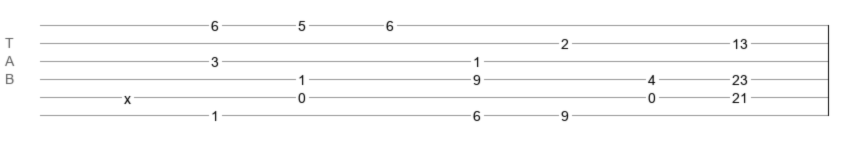0: (298, 90, 306, 100), (648, 90, 656, 100)
1: (211, 108, 219, 118), (298, 72, 306, 82), (473, 54, 481, 64)
13: (732, 36, 748, 46)
2: (561, 36, 569, 46)
21: (732, 90, 748, 100)
23: (732, 72, 748, 82)
3: (211, 54, 219, 64)
4: (648, 72, 656, 82)
5: (298, 18, 306, 28)
6: (211, 18, 219, 28), (386, 18, 394, 28), (473, 108, 481, 118)
9: (473, 72, 481, 82), (561, 108, 569, 118)
x: (124, 91, 131, 99)
